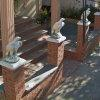Statue: (3, 28, 30, 71)
